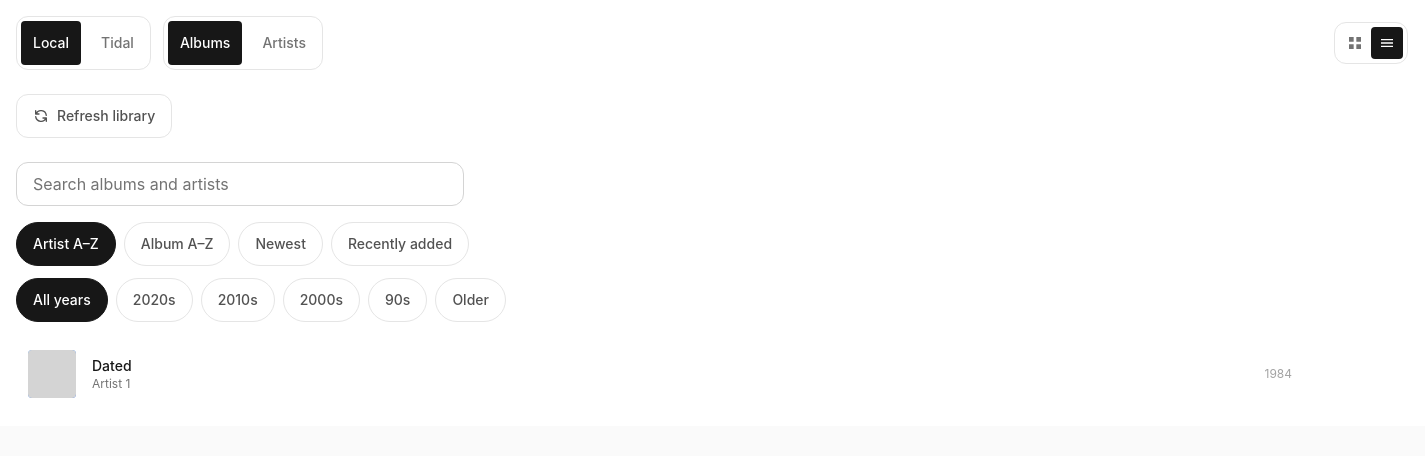
Test: LibraryView — genre chips, search, year headings, scroll loading › year headings › uses a heading level below the page title in list view too
Click the button with test id "sort-chip-year-newest" at (281, 244), box [238,222,323,266]
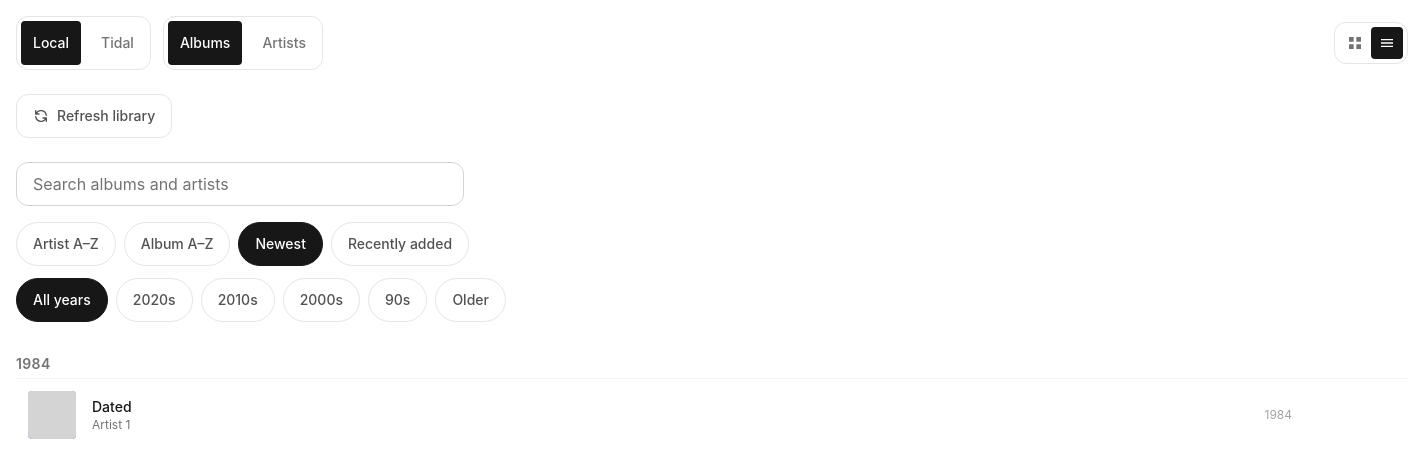
Result: the heading with test id "year-heading" reads "1984" at [16,355,51,372]
